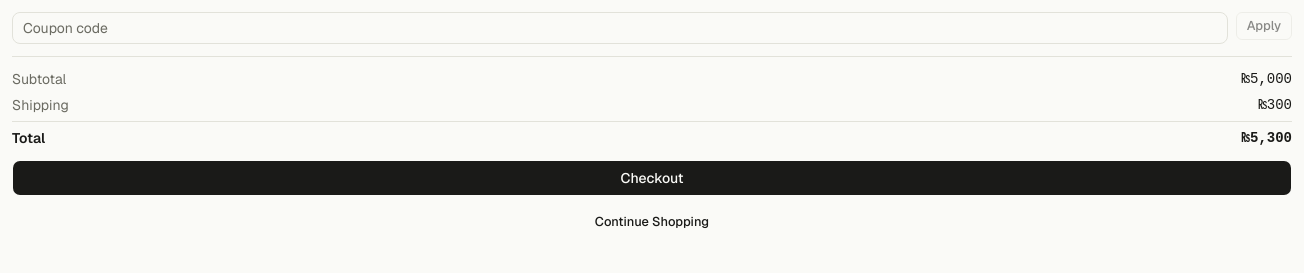
Test: CartSummary › shows invalid coupon feedback on failure
Type "BADCODE" into the field labelled "Coupon code" at (620, 28), box [12,12,1228,44]
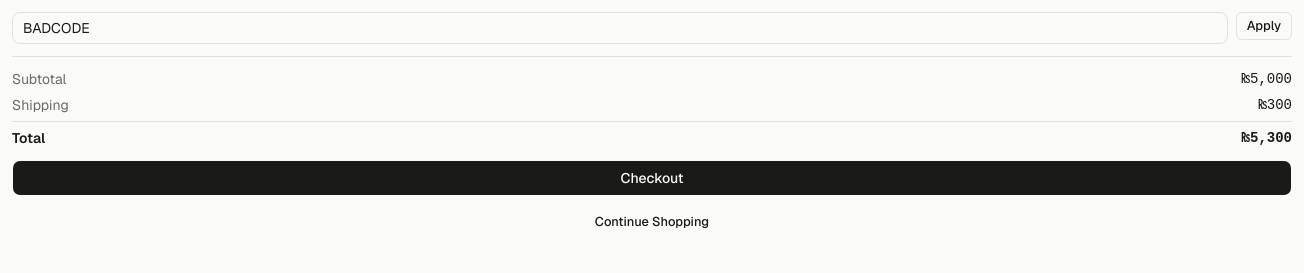
Click the button "Apply" at (1264, 26), box [1236,12,1292,40]
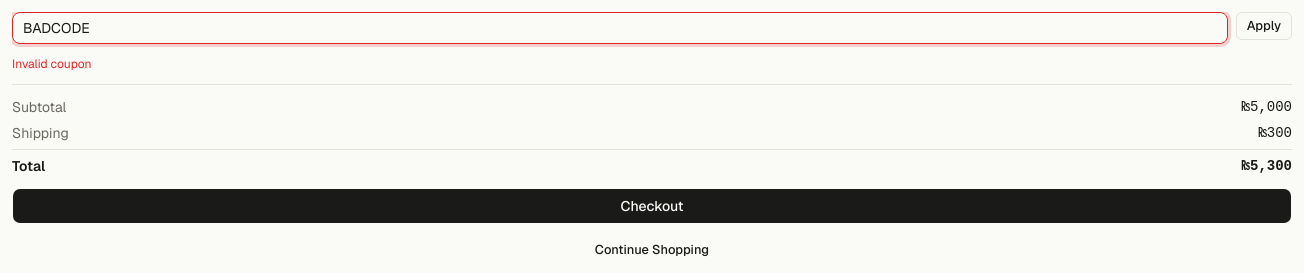
Expected: the text "Invalid coupon" is shown, [12,56,91,72]
